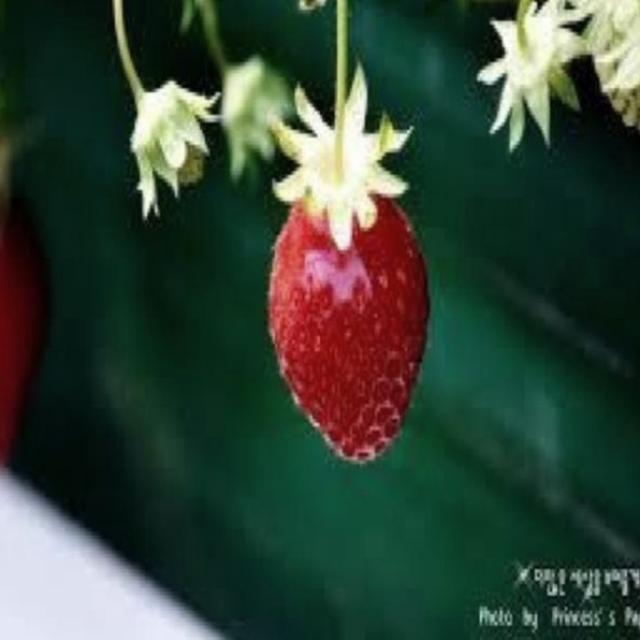Healthy Fruit: (265, 191, 430, 464)
